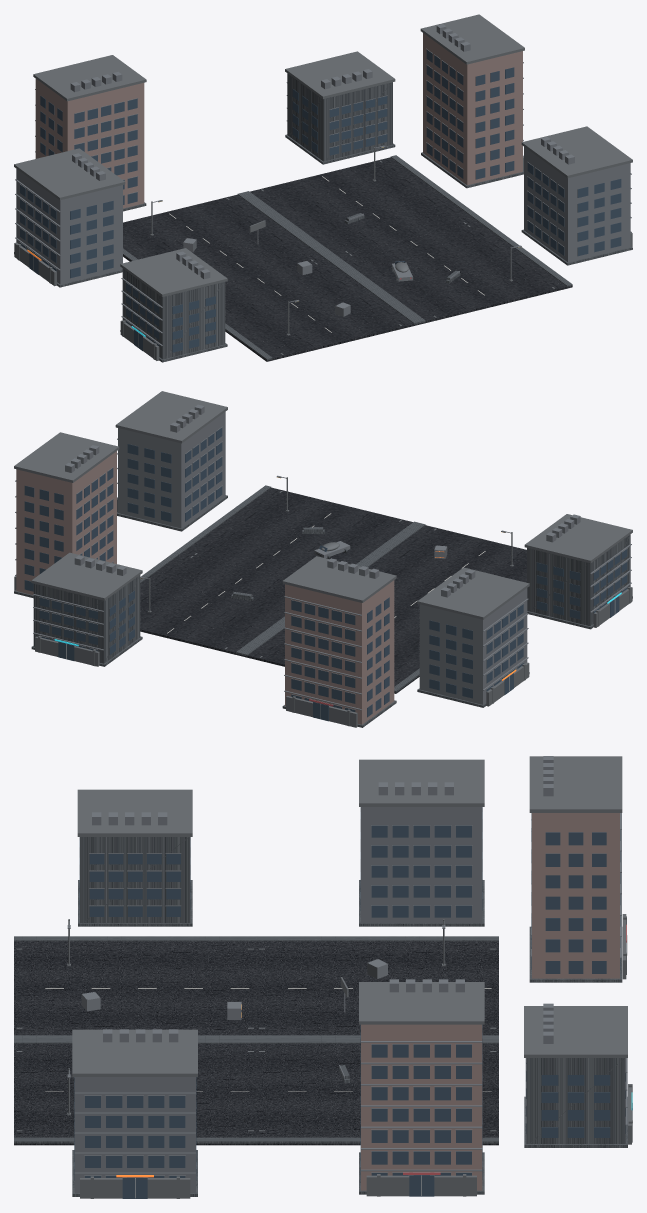
Rendered from LAUNCH_DISTRICT_ASSEMBLED.glb.
3 views of the same model, one above another, from view 1: azimuth 30°, elevation 25°; view 2: azimuth 150°, elevation 25°; view 3: azimuth 270°, elevation 25° (orthographic). The views are drawn at different scales.
Parts seen in each view (by area): view 1: street_segment_22m_784, street_segment_22m_588, street_segment_22m_392, street_segment_22m_196, shadow_bank_1137, exchange_hq_1410, shadow_bank_1614, exchange_hq_933, loot_market_1737, loot_market_1260, exchange_hq_1274, exchange_hq_797 (+11 smaller); view 2: street_segment_22m_784, street_segment_22m_588, shadow_bank_1614, shadow_bank_1137, exchange_hq_1410, street_segment_22m_392, exchange_hq_933, loot_market_1260, loot_market_1737, exchange_hq_1274, exchange_hq_797, loot_market_1151 (+9 smaller); view 3: street_segment_22m_392, street_segment_22m_196, street_segment_22m_588, street_segment_22m_784, shadow_bank_1137, shadow_bank_1614, exchange_hq_933, exchange_hq_1410, loot_market_1737, loot_market_1260, exchange_hq_797, exchange_hq_1274 (+14 smaller).
Boxes of the visible parts, x1=… form: street_segment_22m_784: x1=338, y1=222, x2=572, y2=324; street_segment_22m_588: x1=250, y1=157, x2=478, y2=256; street_segment_22m_392: x1=225, y1=259, x2=419, y2=361; street_segment_22m_196: x1=123, y1=194, x2=325, y2=283; shadow_bank_1137: x1=423, y1=33, x2=522, y2=185; exchange_hq_1410: x1=524, y1=147, x2=630, y2=262; shadow_bank_1614: x1=35, y1=79, x2=144, y2=208; exchange_hq_933: x1=16, y1=169, x2=122, y2=284; loot_market_1737: x1=287, y1=73, x2=392, y2=161; loot_market_1260: x1=122, y1=268, x2=225, y2=359; exchange_hq_1274: x1=521, y1=126, x2=632, y2=178; exchange_hq_797: x1=14, y1=148, x2=125, y2=200; street_segment_22m_784: x1=182, y1=487, x2=412, y2=577; street_segment_22m_588: x1=140, y1=552, x2=285, y2=656; shadow_bank_1614: x1=285, y1=580, x2=394, y2=724; shadow_bank_1137: x1=16, y1=451, x2=116, y2=595; exchange_hq_1410: x1=118, y1=412, x2=225, y2=528; street_segment_22m_392: x1=368, y1=525, x2=526, y2=610; exchange_hq_933: x1=419, y1=588, x2=527, y2=704; loot_market_1260: x1=527, y1=534, x2=630, y2=625; loot_market_1737: x1=33, y1=575, x2=140, y2=663; exchange_hq_1274: x1=115, y1=391, x2=227, y2=443; exchange_hq_797: x1=417, y1=567, x2=529, y2=619; loot_market_1151: x1=524, y1=514, x2=632, y2=563; street_segment_22m_392: x1=14, y1=941, x2=256, y2=1035; street_segment_22m_196: x1=256, y1=941, x2=498, y2=1035; street_segment_22m_588: x1=256, y1=1043, x2=498, y2=1145; street_segment_22m_784: x1=14, y1=1043, x2=256, y2=1145; shadow_bank_1137: x1=361, y1=1024, x2=482, y2=1190; shadow_bank_1614: x1=532, y1=813, x2=619, y2=978; exchange_hq_933: x1=361, y1=807, x2=482, y2=922; exchange_hq_1410: x1=74, y1=1077, x2=195, y2=1192; loot_market_1737: x1=526, y1=1058, x2=625, y2=1143; loot_market_1260: x1=80, y1=837, x2=190, y2=922; exchange_hq_797: x1=359, y1=759, x2=484, y2=806; exchange_hq_1274: x1=72, y1=1029, x2=197, y2=1076.
Size of the model in its own units: 68.33 by 18.49 by 56.17.
13 materials, 2 textured.
